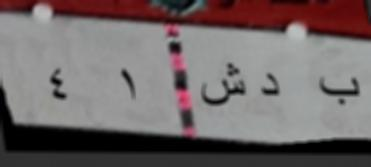1: (114, 59, 143, 110)
4: (44, 58, 69, 110)
baa: (316, 70, 364, 114)
daal: (253, 69, 286, 107)
sheen: (197, 56, 248, 121)
